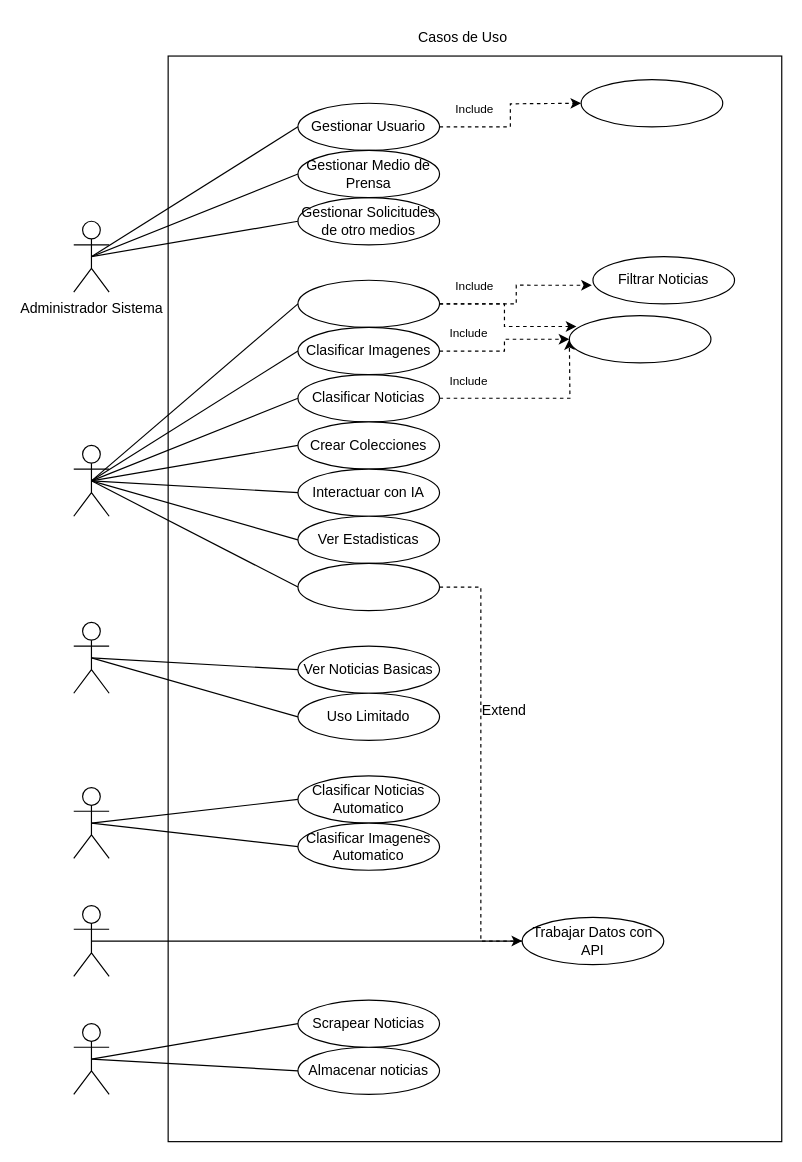
The diagram is 802 pixels wide and 1162 high, and some of its shapes have lost their labels. Each missing label, with the centre of its shape:
"Banear Usuario" goes at (651,102).
"Buscar Noticias" goes at (368,303).
"Exportar Datos" goes at (368,586).
"IA Modelo" goes at (91,822).
"Scheduler" goes at (91,1058).
"Sistema Externo" goes at (91,940).
"Usar IA" goes at (639,338).
"Usuario Demo" goes at (91,657).
"Usuario Registrado" goes at (91,480).
